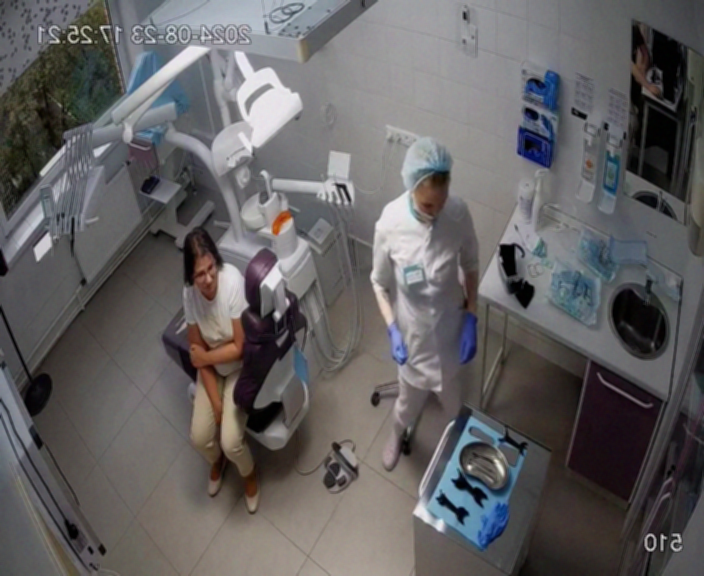Empty: (160, 221, 313, 513)
